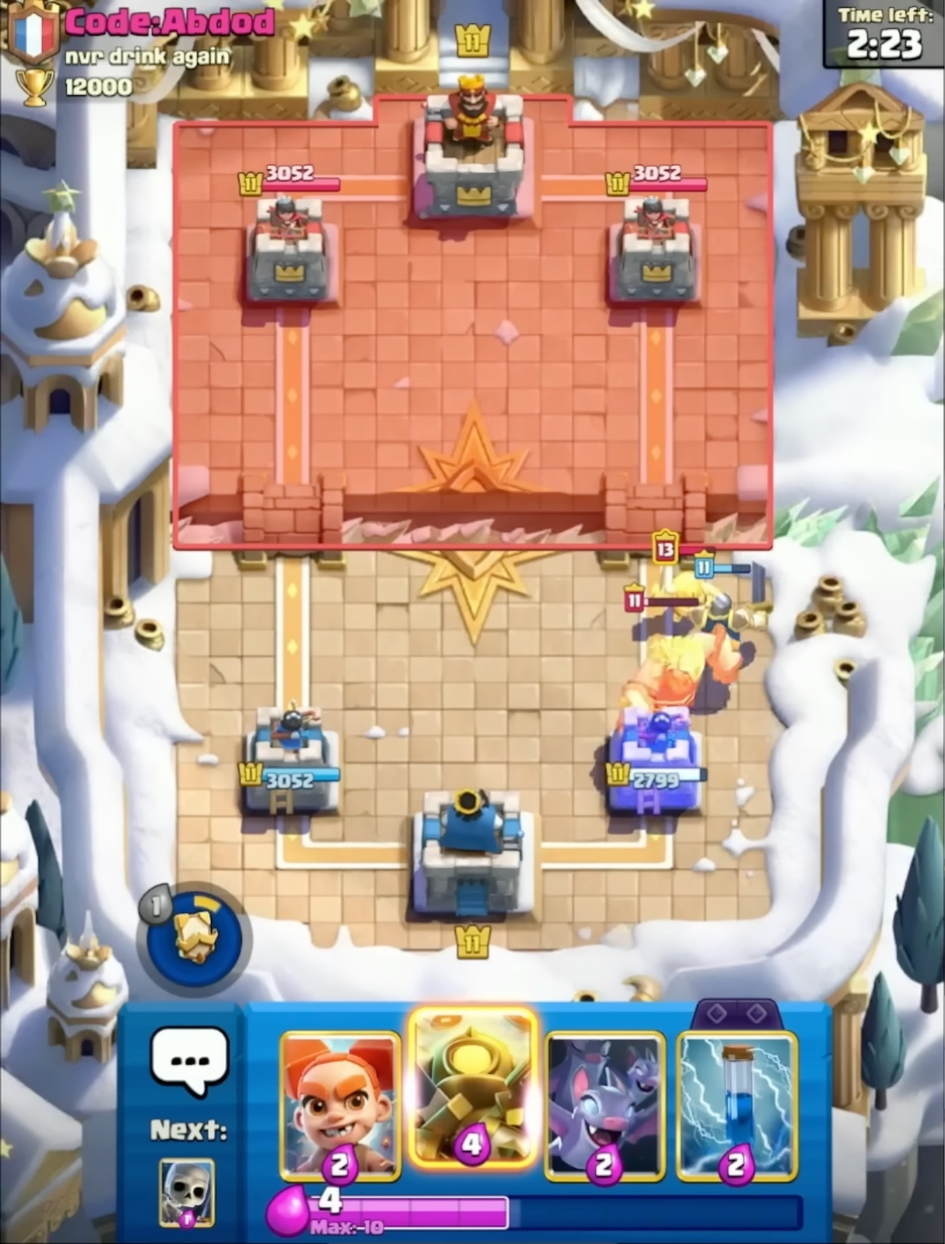hero-giant: (609, 579, 747, 760)
hero-mini-pekka: (639, 529, 736, 636)
